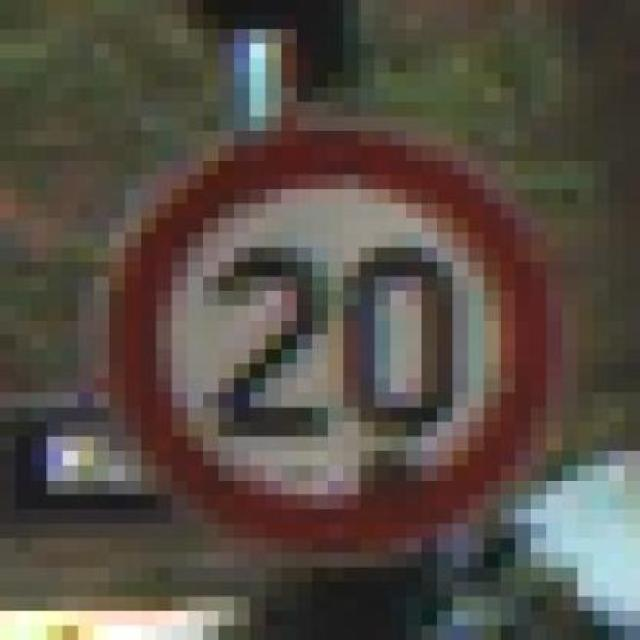forb_speed_over_20: (124, 126, 535, 537)
